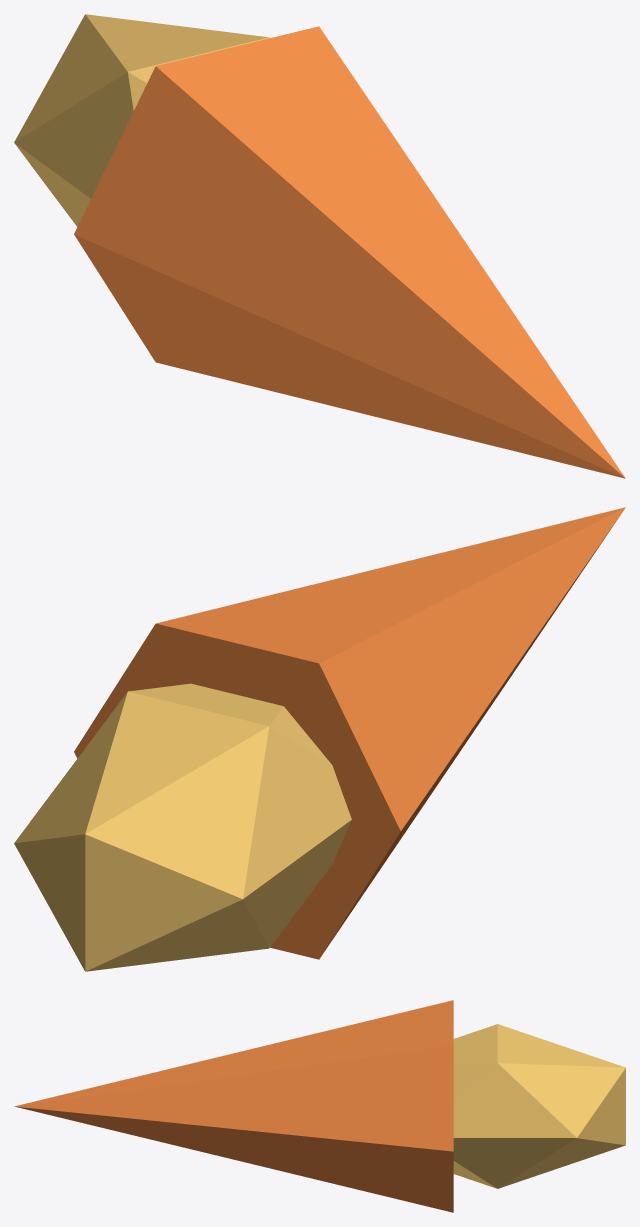
The model's file is projectile_ember_bolt.glb.
3 views of the same model, one above another, from view 1: azimuth 30°, elevation 25°; view 2: azimuth 150°, elevation 25°; view 3: azimuth 270°, elevation 25° (orthographic). The views are drawn at different scales.
Visible parts, largest first — view 1: flame, head; view 2: flame, head; view 3: flame, head.
Part boxes in pixels (bbox=[...]): flame: bbox=[74, 26, 625, 478]; head: bbox=[14, 14, 269, 226]; flame: bbox=[74, 507, 625, 959]; head: bbox=[14, 683, 351, 971]; flame: bbox=[14, 1000, 453, 1212]; head: bbox=[453, 1024, 625, 1188].
Size of the model in its own units: 0.34 by 0.2944 by 0.9742.
